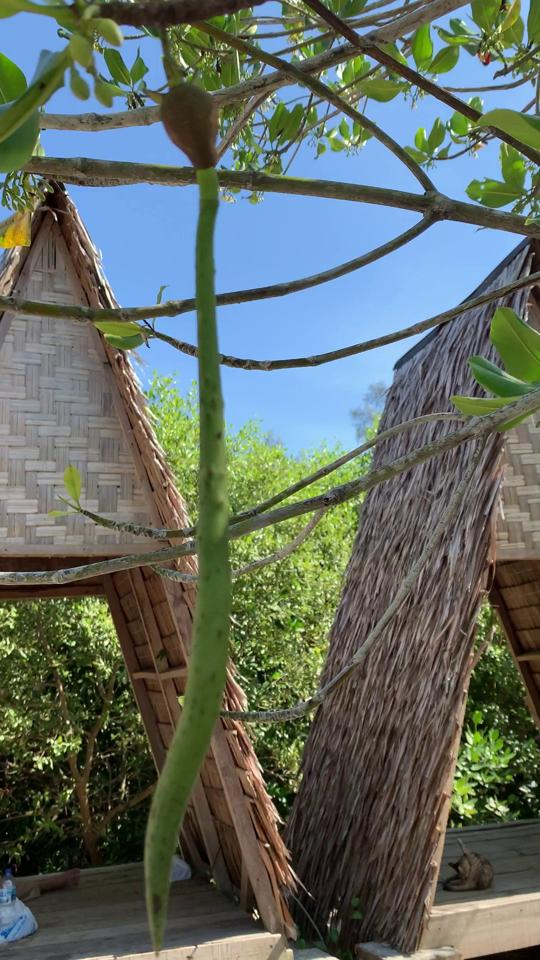setengah matang: (130, 64, 241, 955)
